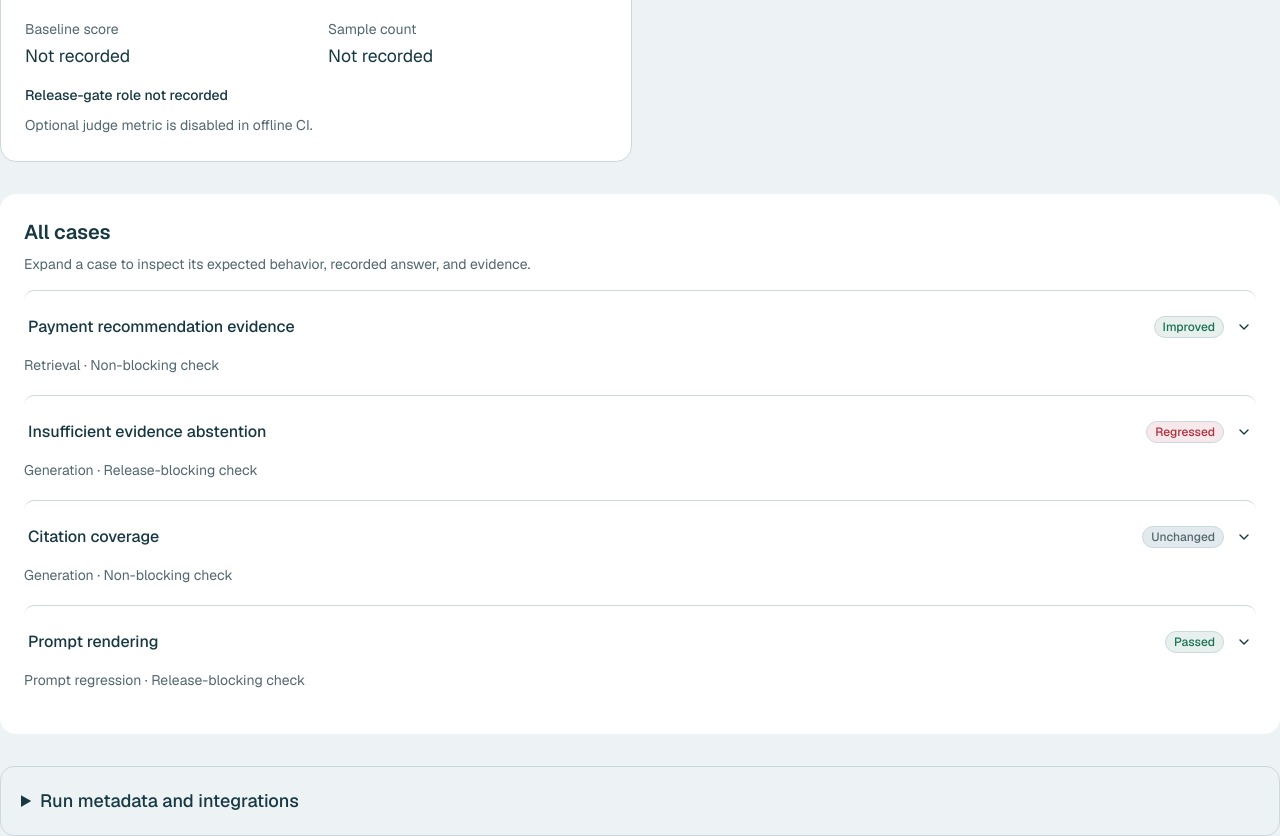
explains missing case evidence without inventing an answer
(page scrolled)
What coordinates should you click on to do the following:
click the button "Citation coverage Unchanged"
I would click on:
 (94, 537)
Its box is [24,509,1256,565].
(page scrolled)
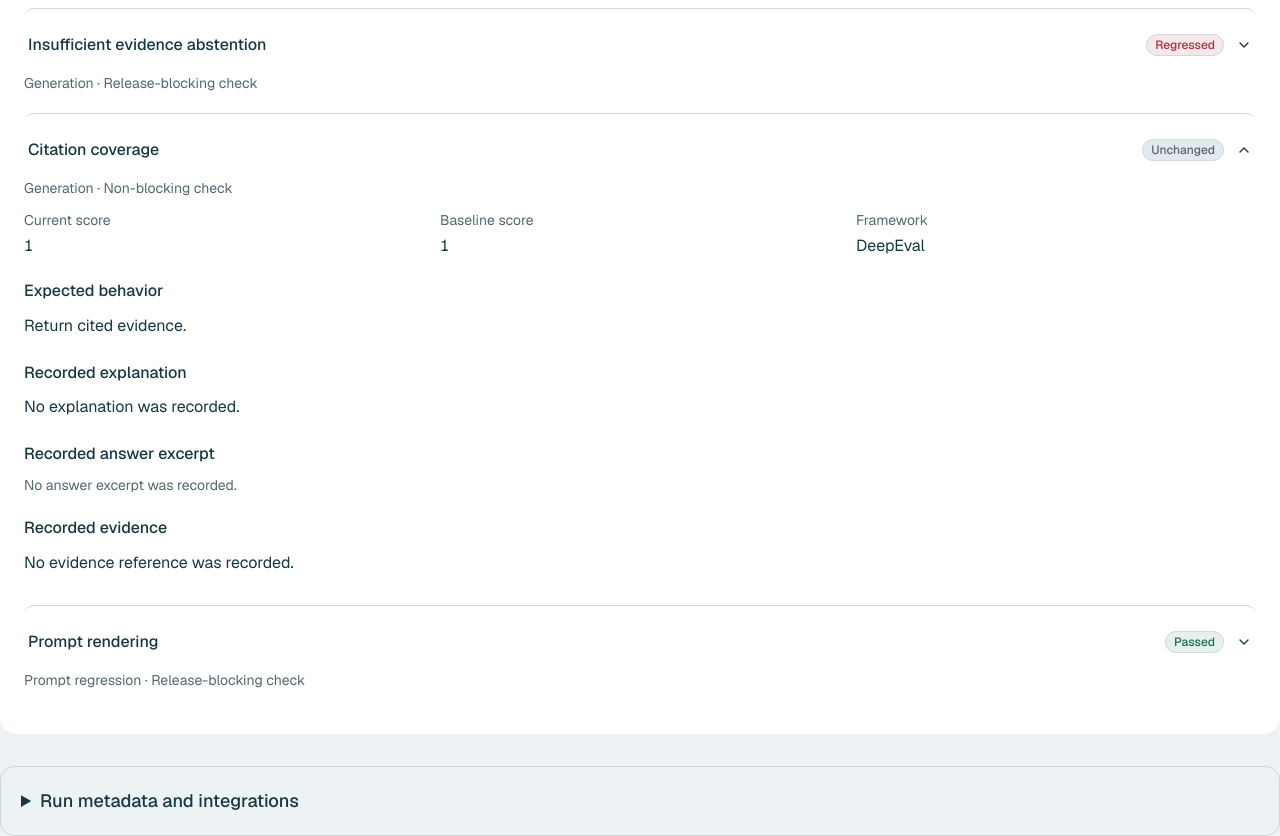
Expected: the element named "Citation coverage details" shows "No answer excerpt was recorded.", [24,476,237,494]
Expected: the element named "Citation coverage details" shows "No evidence reference was recorded.", [24,552,294,572]
Expected: the element named "Citation coverage details" shows "No explanation was recorded.", [24,396,239,417]
